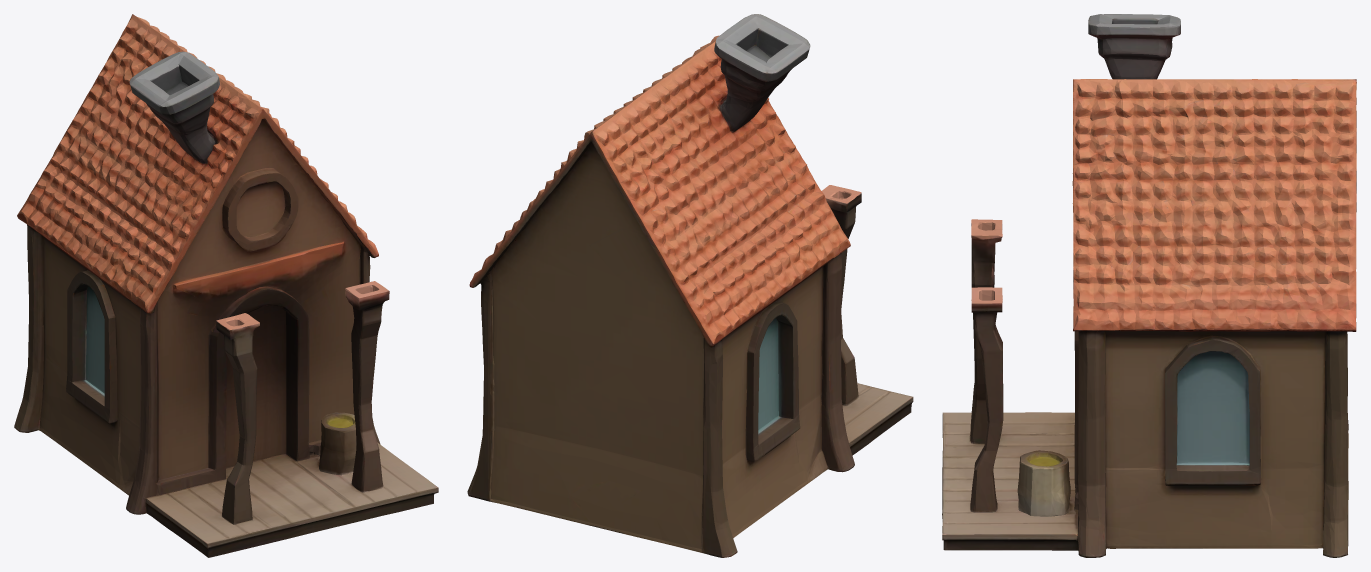
Rendered from nano_t05.glb.
The picture shows the model from 3 angles, left to right: view 1: azimuth 30°, elevation 25°; view 2: azimuth 150°, elevation 25°; view 3: azimuth 270°, elevation 25°; orthographic projection. The views are drawn at different scales.
Visible parts, largest first — view 1: geometry_0; view 2: geometry_0; view 3: geometry_0.
Part boxes in pixels (<box>): geometry_0: <box>14,14,438,557</box>; geometry_0: <box>467,14,913,557</box>; geometry_0: <box>942,14,1356,557</box>.
Bounding box in the file's own units: 0.725 × 1.13 × 0.9476.
Materials: 1 (1 with a texture image).
